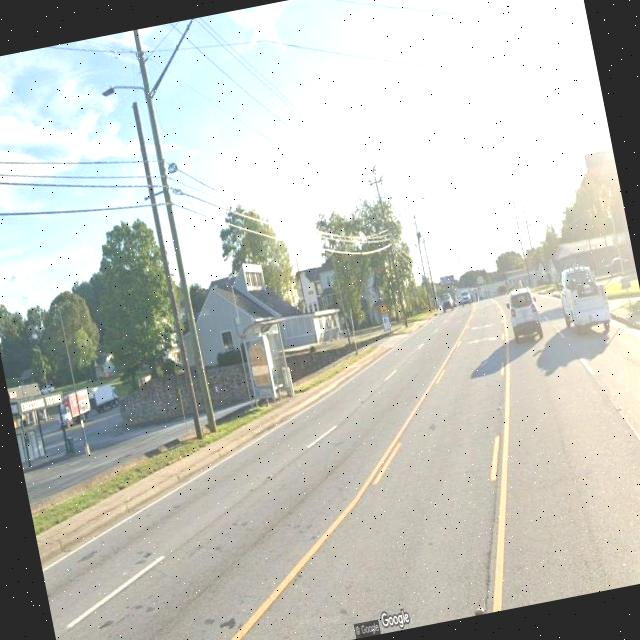shelter: (237, 316, 304, 411)
trash_can: (282, 366, 294, 396)
